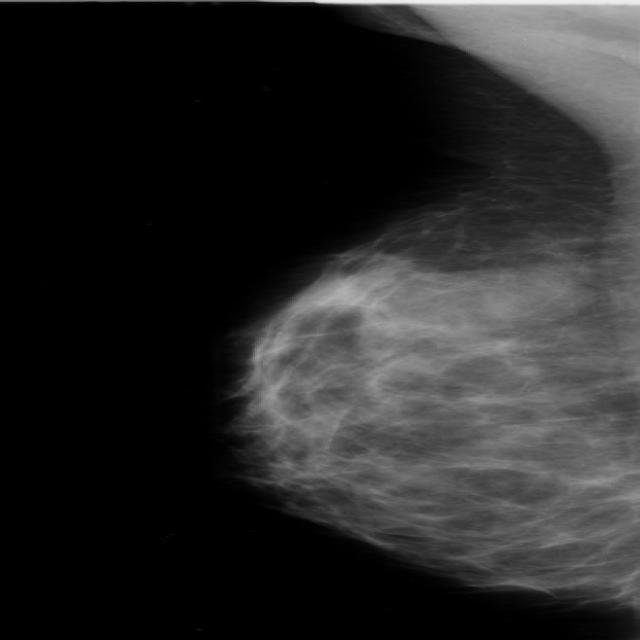tumour: (367, 268, 588, 334)
